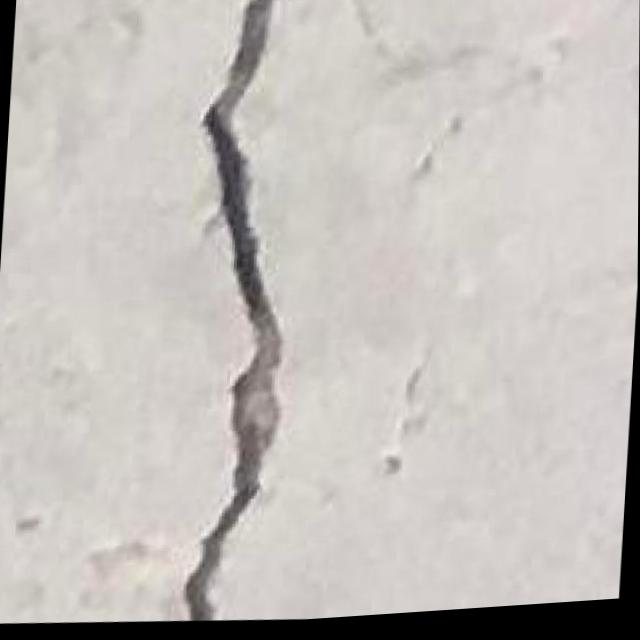Crack: (160, 0, 305, 629)
